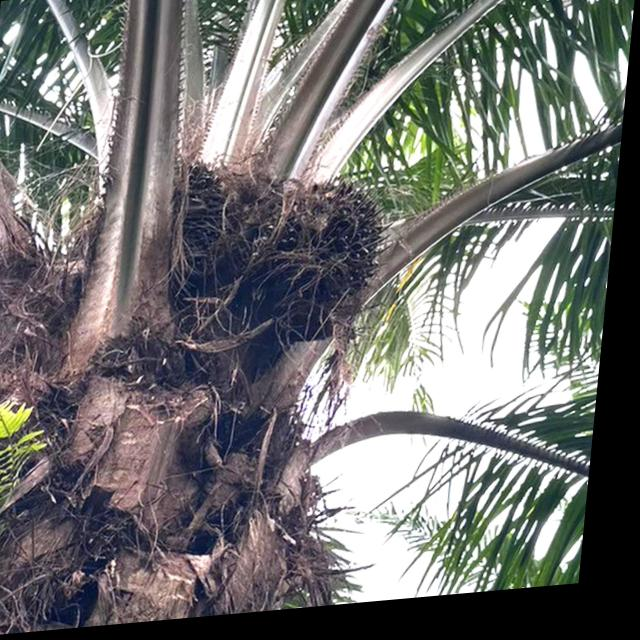almost: (239, 180, 400, 353)
